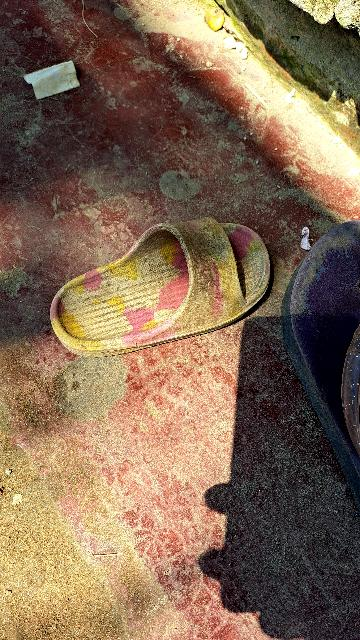sandal: (31, 201, 305, 362)
